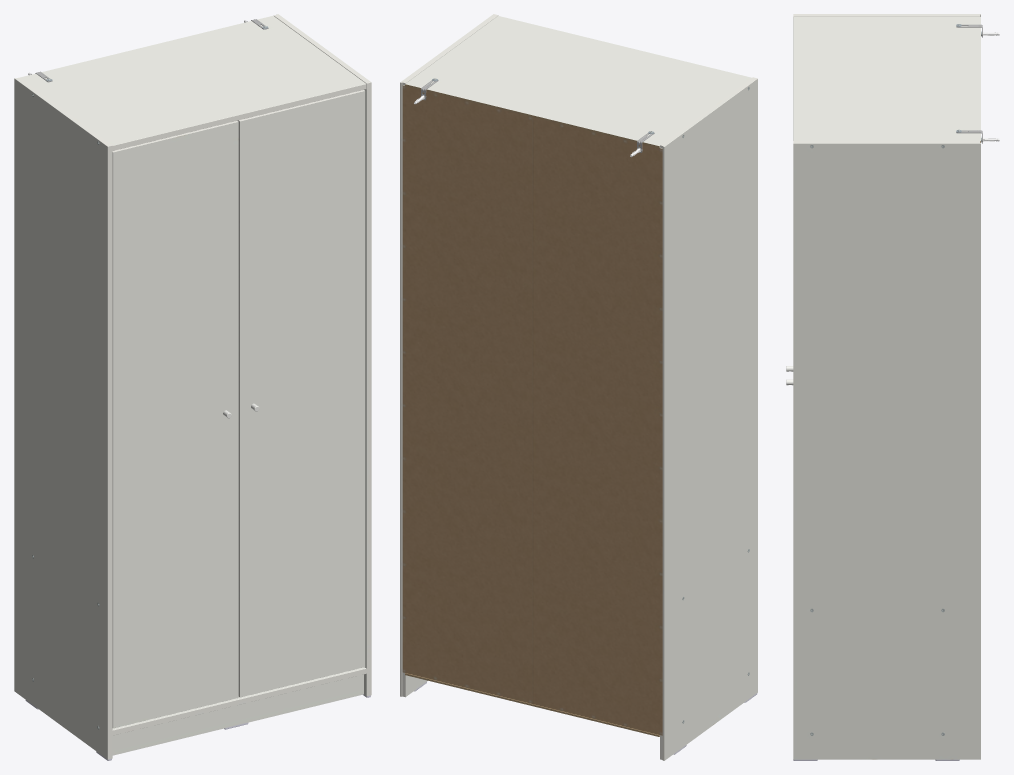
3 views of the same model, side by side, from view 1: azimuth 30°, elevation 25°; view 2: azimuth 150°, elevation 25°; view 3: azimuth 270°, elevation 25° (orthographic).
Parts seen in each view (by area): view 1: world; view 2: world; view 3: world.
Boxes of the visible parts, bbox=[...] form: world: bbox=[14, 14, 371, 760]; world: bbox=[400, 14, 757, 760]; world: bbox=[786, 14, 999, 760].
Bounding box in the file's own units: 0.79 × 1.76 × 0.55.
Materials: 1 (1 with a texture image).
